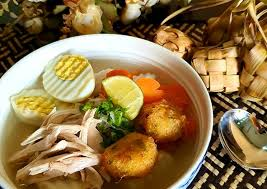soto: (1, 31, 218, 189)
